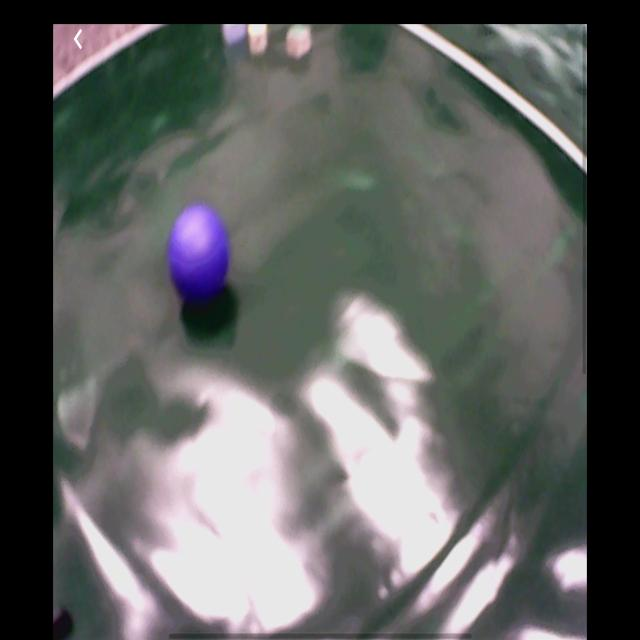ball: (168, 202, 232, 304)
